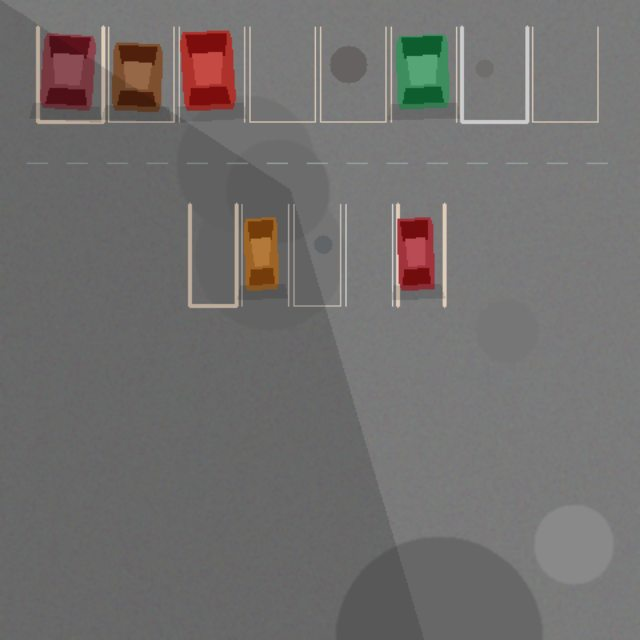space-empty: (249, 27, 315, 121), (461, 27, 527, 121), (320, 27, 385, 121), (532, 27, 597, 121), (189, 204, 236, 305), (293, 204, 340, 305), (345, 204, 392, 305)
space-occupied: (37, 27, 103, 121), (108, 27, 173, 121), (179, 27, 244, 121), (391, 27, 456, 121), (241, 204, 288, 305), (397, 204, 444, 305)
